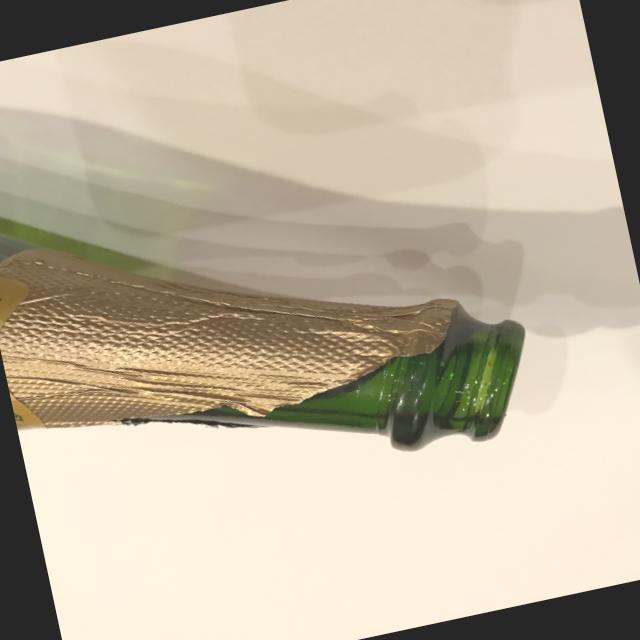Glass: (0, 96, 549, 537)
